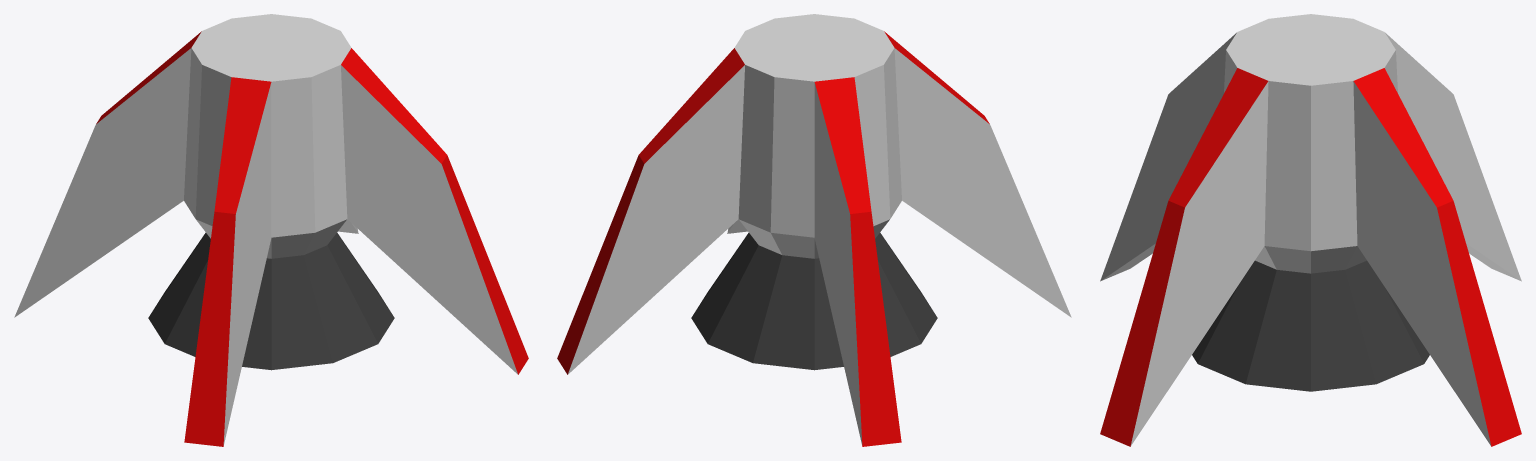
File: Thruster01.gltf
The picture shows the model from 3 angles, left to right: view 1: azimuth 30°, elevation 25°; view 2: azimuth 150°, elevation 25°; view 3: azimuth 270°, elevation 25°; orthographic projection. The views are drawn at different scales.
Parts seen in each view (by area): view 1: Thruster01; view 2: Thruster01; view 3: Thruster01.
Part boxes in pixels (x1,y1,x2,y2): Thruster01: [14, 14, 528, 446]; Thruster01: [557, 14, 1071, 446]; Thruster01: [1100, 14, 1521, 446].
Bounding box in the file's own units: 1.24 × 1 × 1.24.
